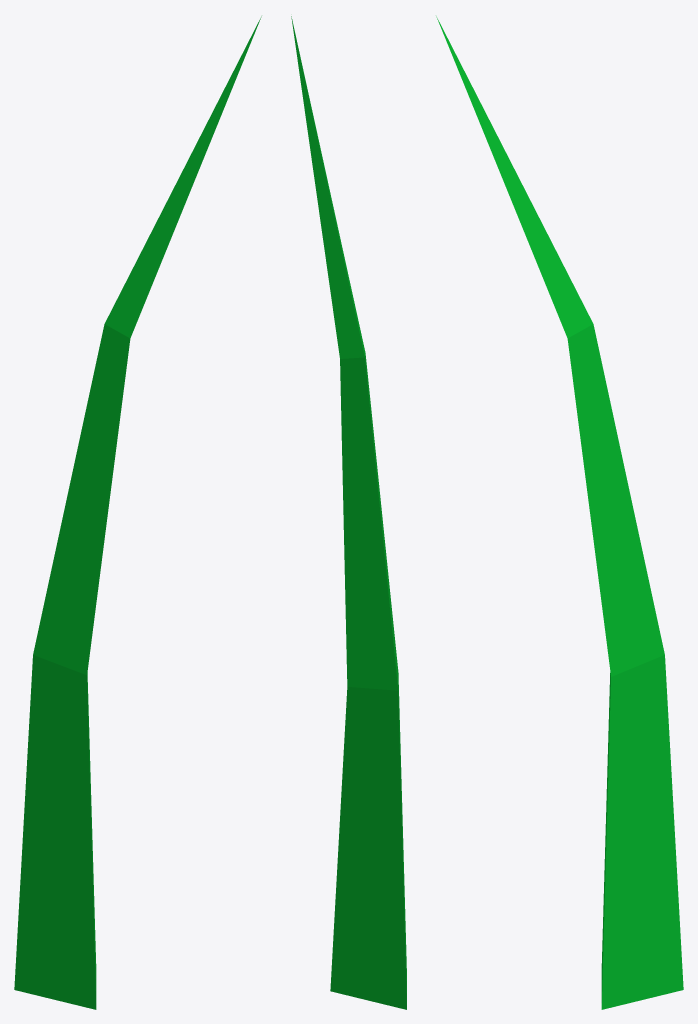
The model's file is grass.fbx.
3 views of the same model, side by side, from view 1: azimuth 90°, elevation 25°; view 2: azimuth 210°, elevation 25°; view 3: azimuth 270°, elevation 25° (orthographic). The views are drawn at different scales.
Visible parts, largest first — view 1: Grass; view 2: Grass; view 3: Grass.
Boxes of the visible parts, x1,y1,x2,y2 form: Grass: (14, 16, 261, 1009); Grass: (291, 16, 406, 1009); Grass: (436, 16, 683, 1009).
Size of the model in its own units: 17.32 by 197 by 45.42.
